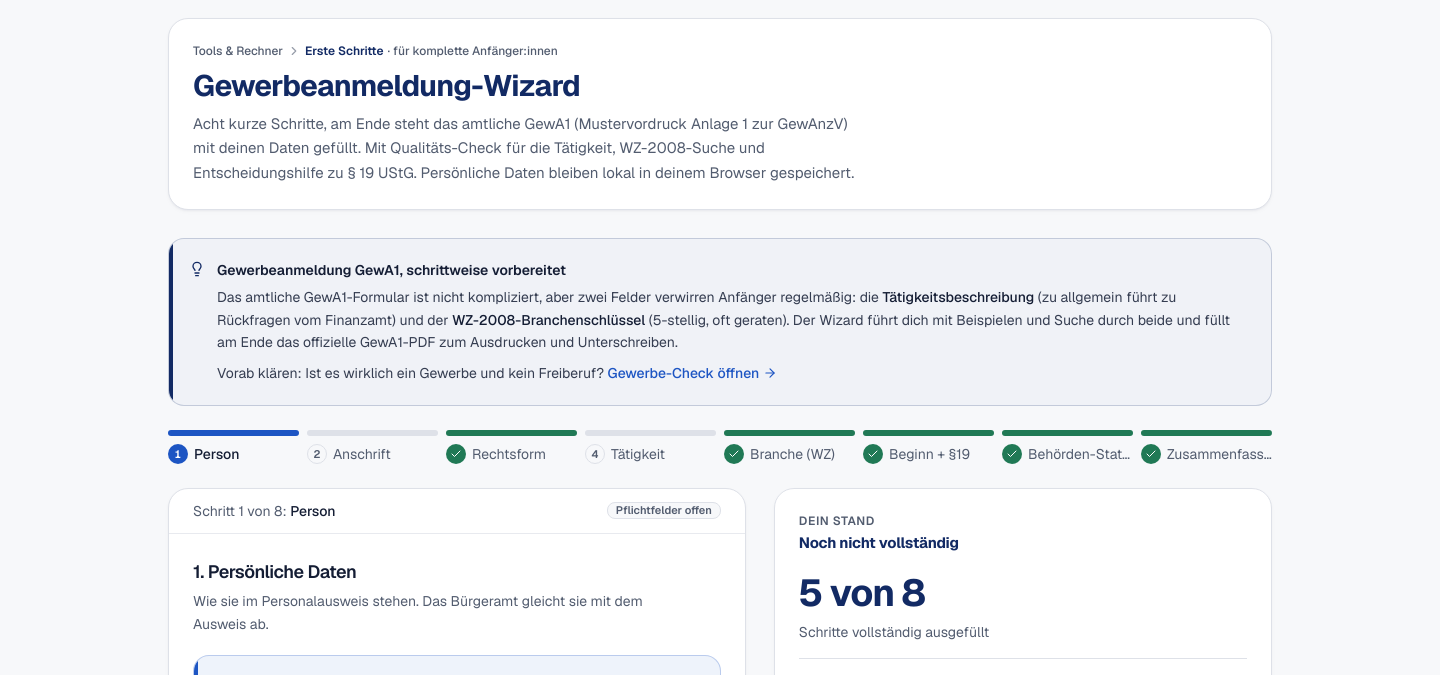
Scenario: GewerbeanmeldungWizard — Steps › Step 4: Tätigkeits-Qualität reagiert auf Input-Länge
Click the button "4 Tätigkeit" at (650, 447), box [585,430,716,464]
(page scrolled)
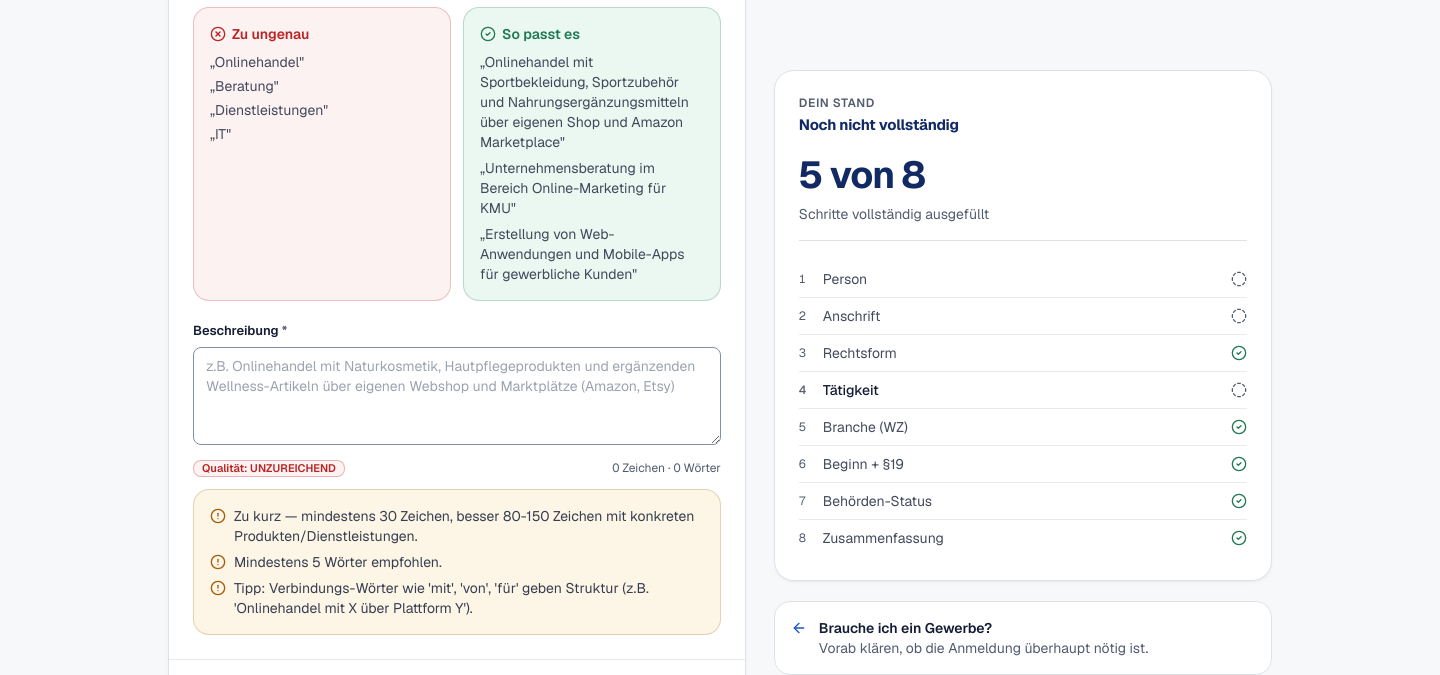
Now the text "UNZUREICHEND" is shown, box [250,461,336,475]
Replace the text in the text box labelled "Beschreibung *" with "Onlinehandel mit Sportbekleidung und Sportzubehör über eigenen Shop und Marketplace" at (457, 396), box [193,347,721,445]
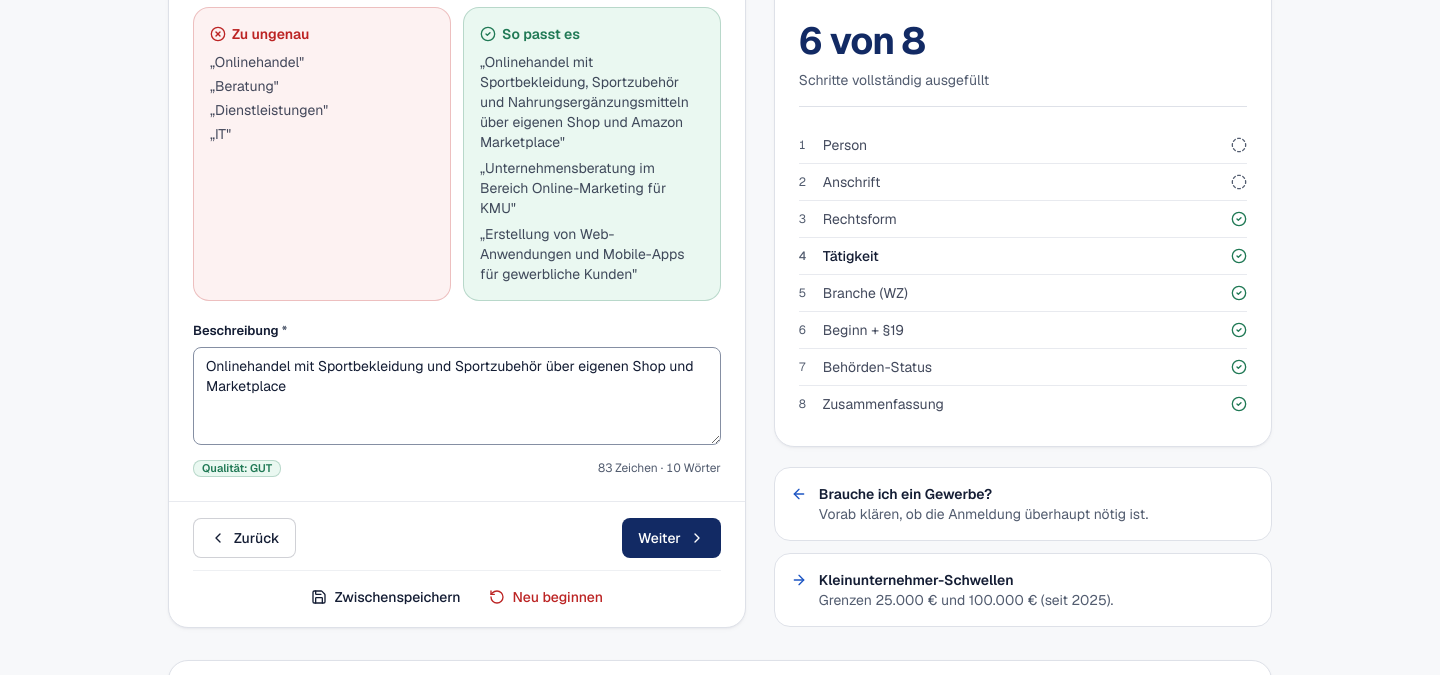
Now the text "GUT" is shown, box [250,461,272,475]
